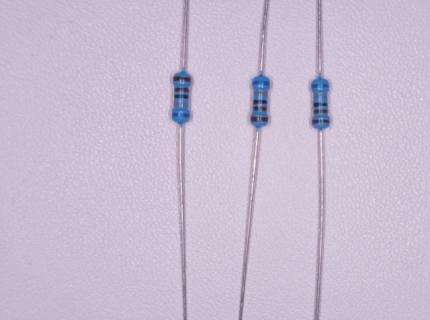Black band: (174, 94, 189, 99), (314, 102, 328, 107), (253, 100, 267, 104)
Blue band: (172, 112, 189, 118), (253, 81, 270, 86), (311, 84, 330, 88)
Brown band: (250, 116, 268, 123), (173, 76, 192, 82), (311, 119, 331, 124), (314, 109, 328, 115), (253, 106, 267, 111), (175, 88, 189, 92)
Grey band: (253, 91, 268, 96), (313, 94, 328, 99), (174, 102, 188, 107)
